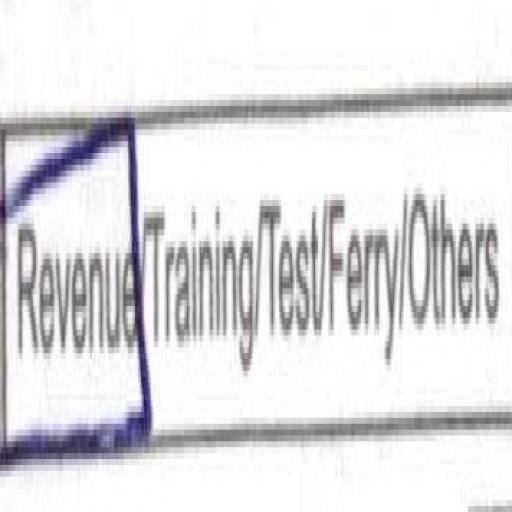check: (0, 59, 142, 512)
